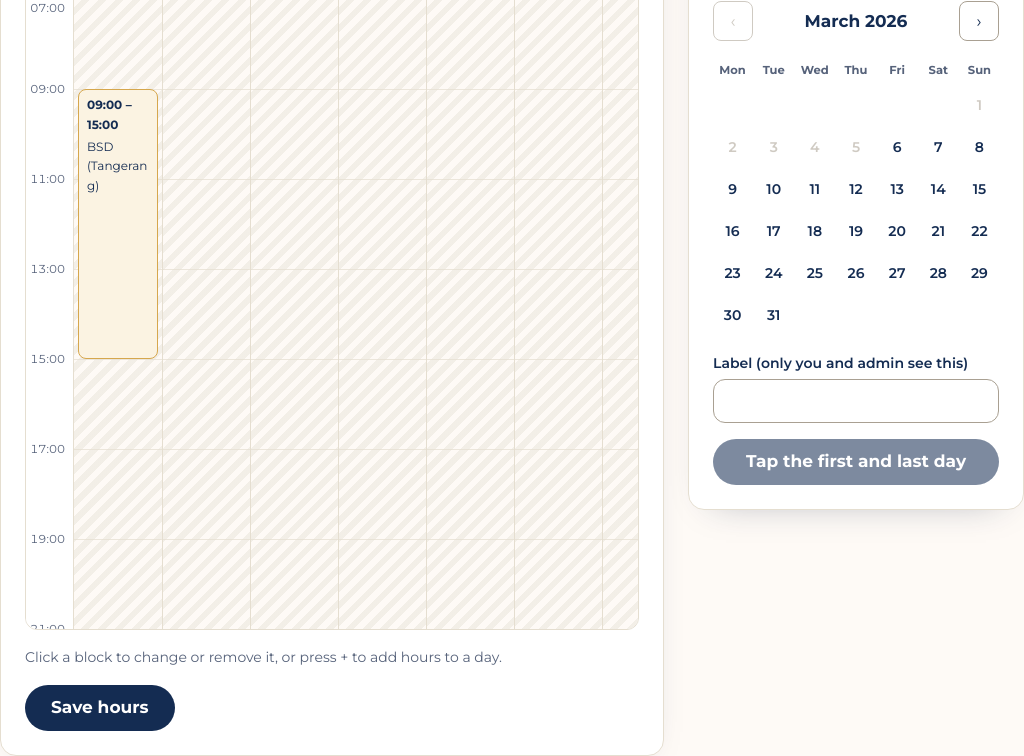
Scenario: HoursEditor › explains overlapping hours
The image size is (1024, 756).
(page scrolled)
Expected: the button with aria-label "Monday 09:00 – 15:00, BSD (Tangerang)" is shown, [78,89,158,359]
Click the button "Save hours": click(100, 708) [25,685,175,731]
(page scrolled)
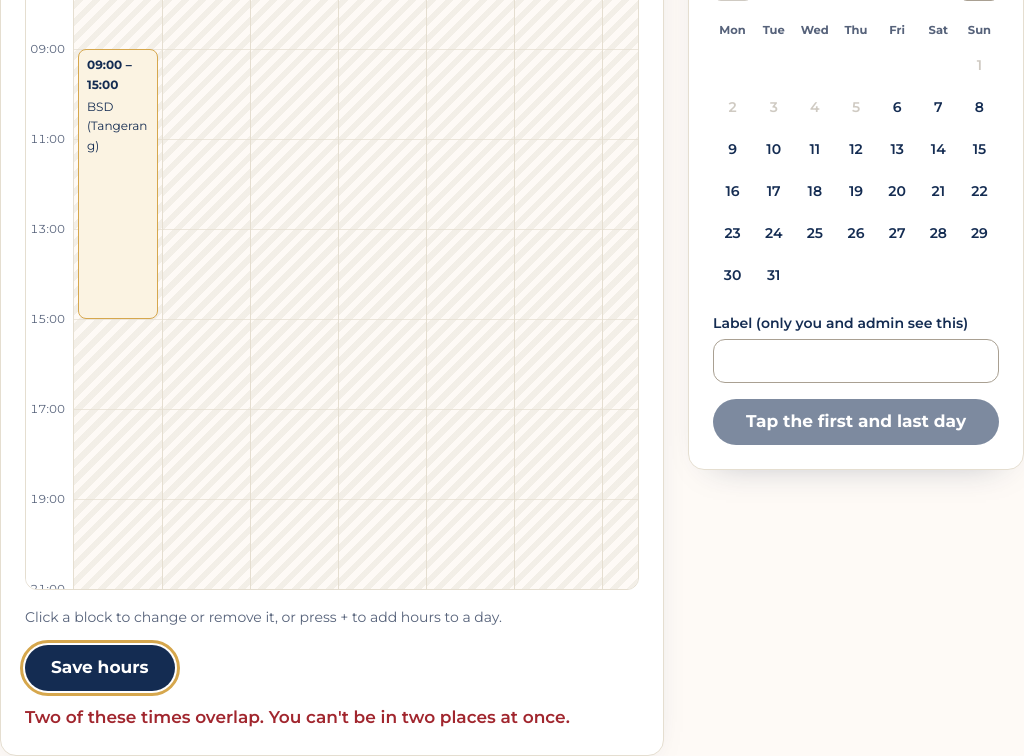
Expected: the message shows "You can't be in two places at once.", [25,707,570,727]
